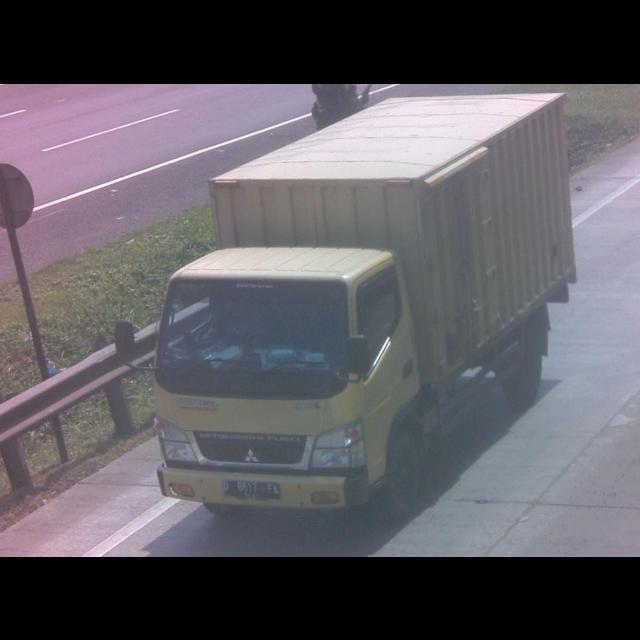plate: (220, 475, 282, 499)
